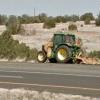Tractor: (23, 24, 100, 68)
